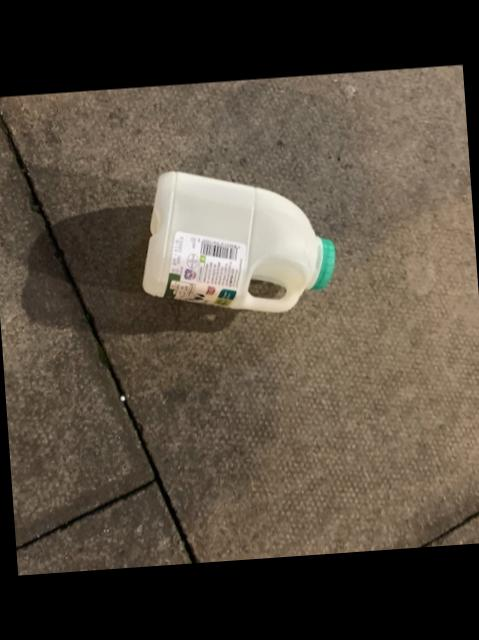plastic: (143, 172, 335, 313)
